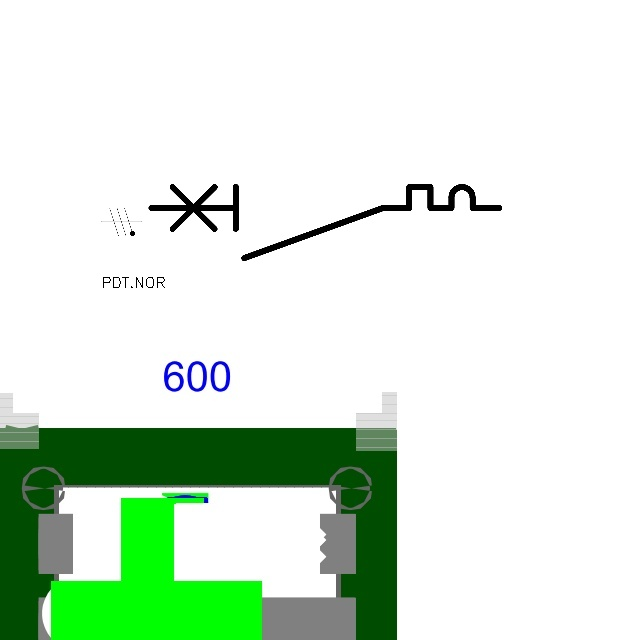interruptor_termomagnetico: (142, 178, 507, 267)
